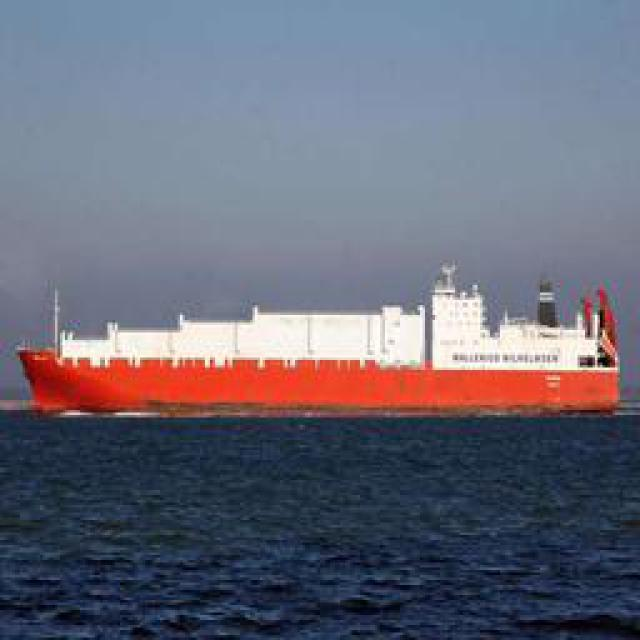Ship: (20, 272, 625, 422)
